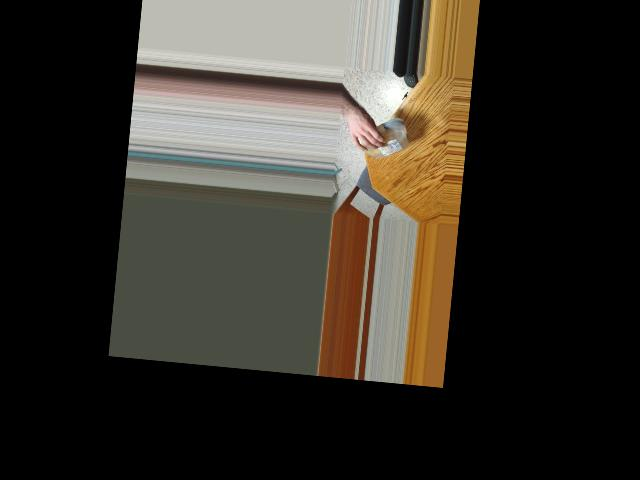cheese: (363, 127, 405, 159)
